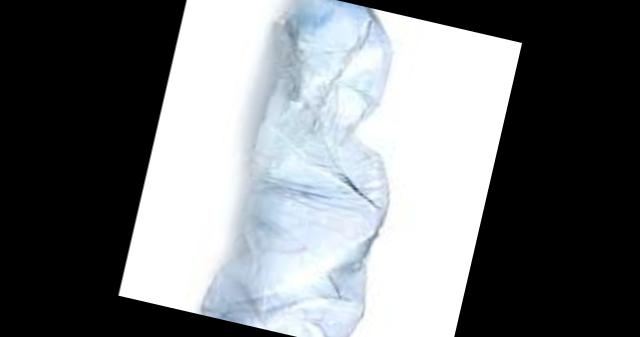plastic: (207, 0, 395, 337)
